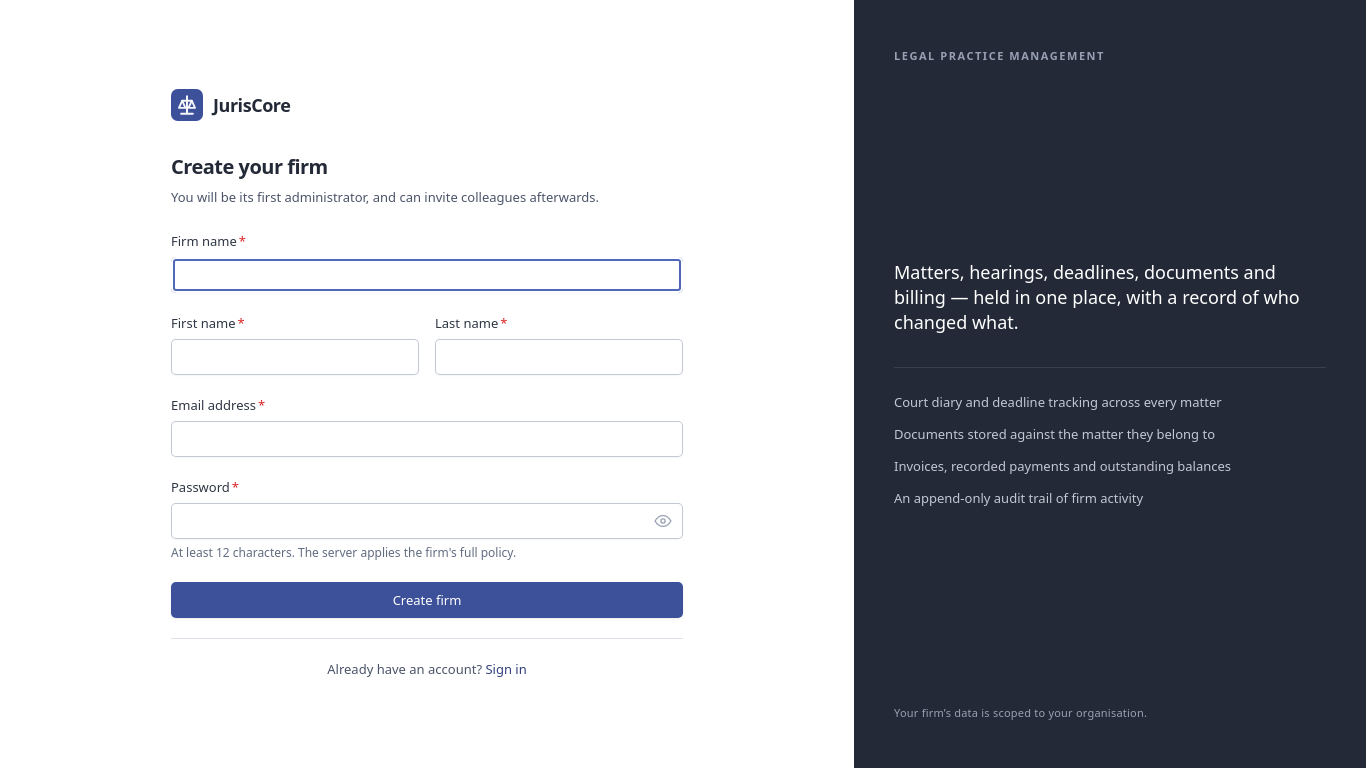
Test case: RegisterPage › reports an unrouted 404 as a missing record, which is the symptom to recognise
Type "xyz" into the field labelled "Firm name*" at (427, 275), box [171,257,683,293]
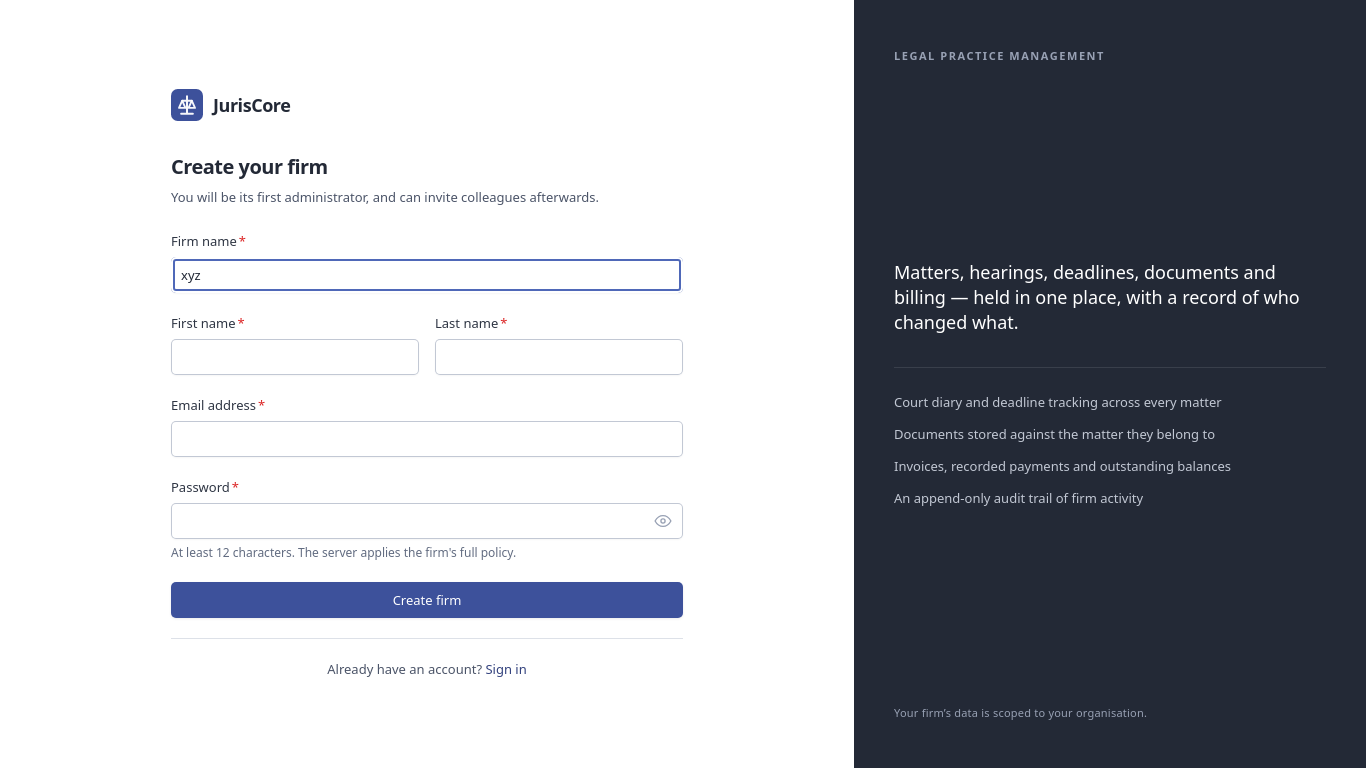
Type "Arsh" into the field labelled "First name*" at (295, 357), box [171,339,419,375]
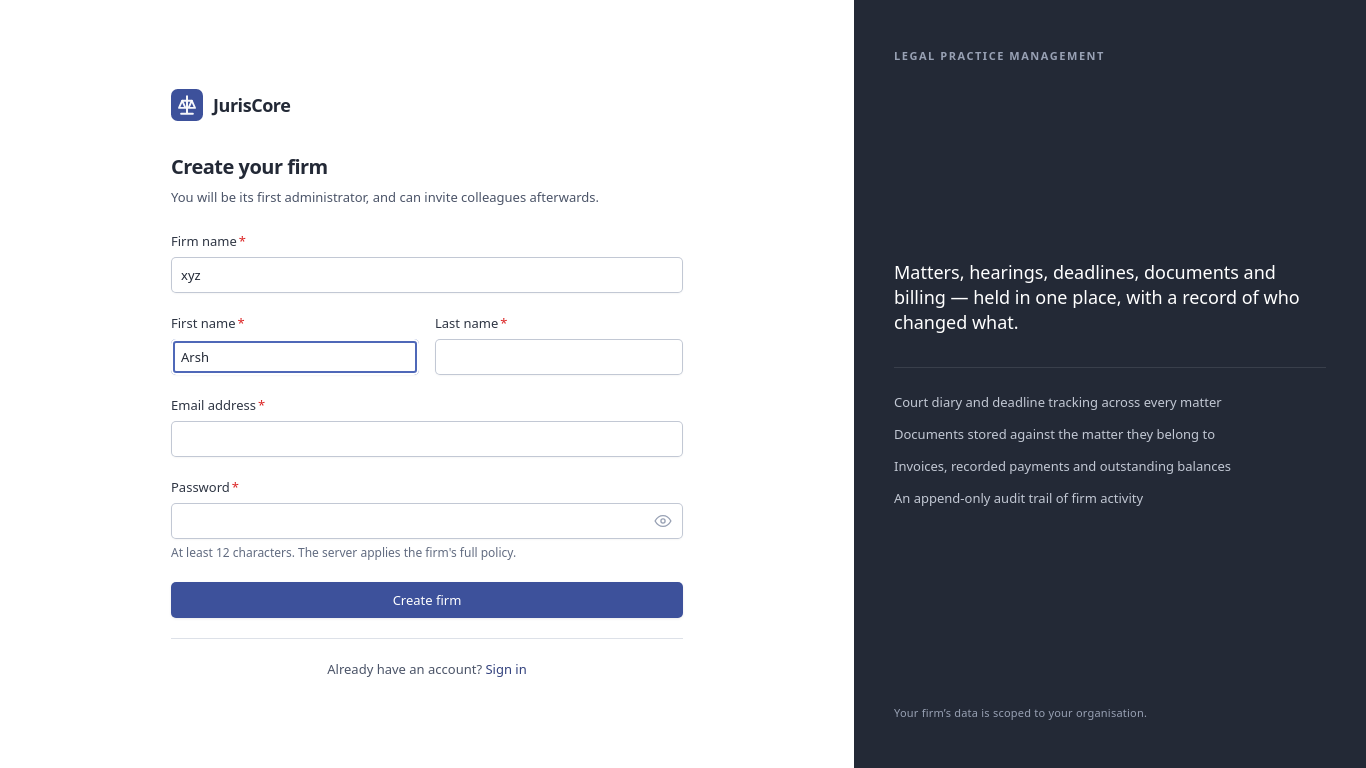
Type "Raj" into the field labelled "Last name*" at (559, 357), box [435,339,683,375]
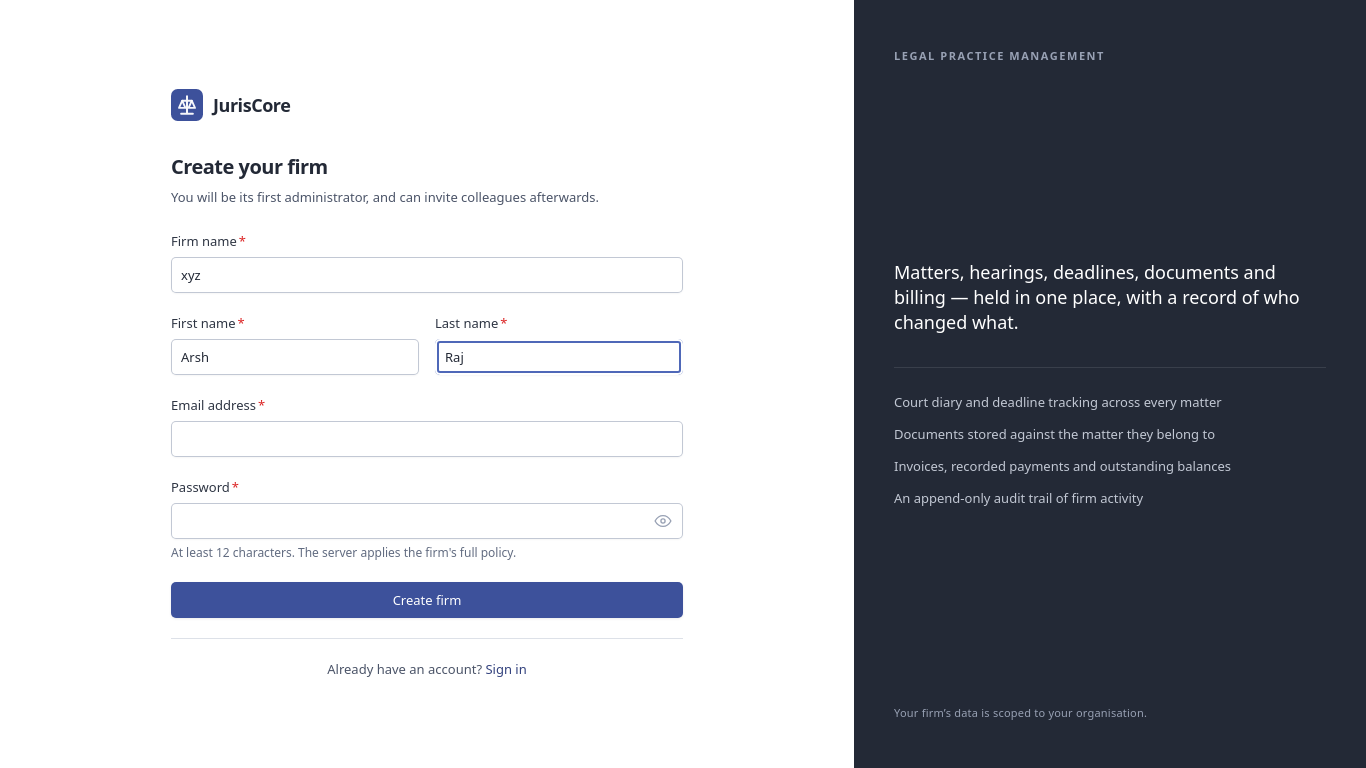
Type "arsh@example.test" into the field labelled "Email address*" at (427, 439), box [171,421,683,457]
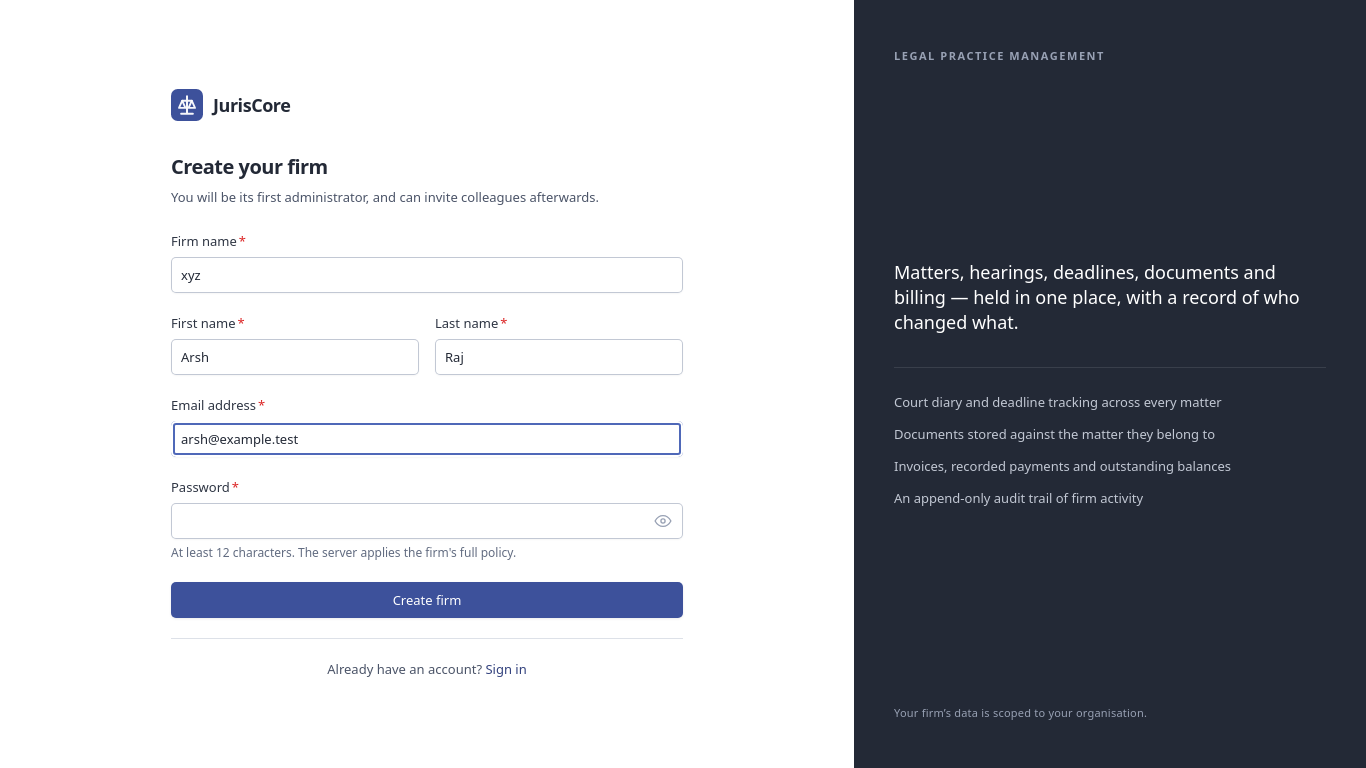
Type "Correct-Horse7!" into the password field labelled "Password*" at (427, 521), box [171,503,683,539]
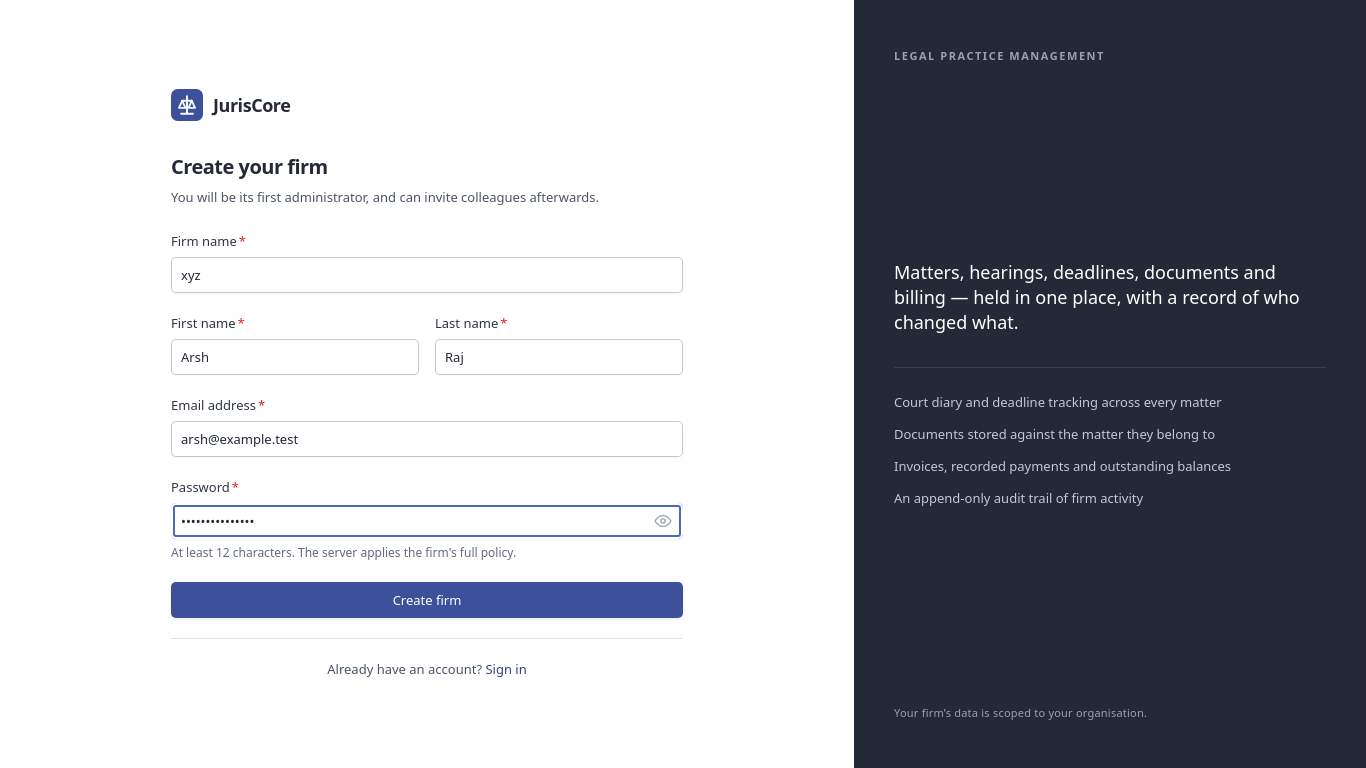
Click the button "Create firm" at (427, 600), box [171,582,683,618]
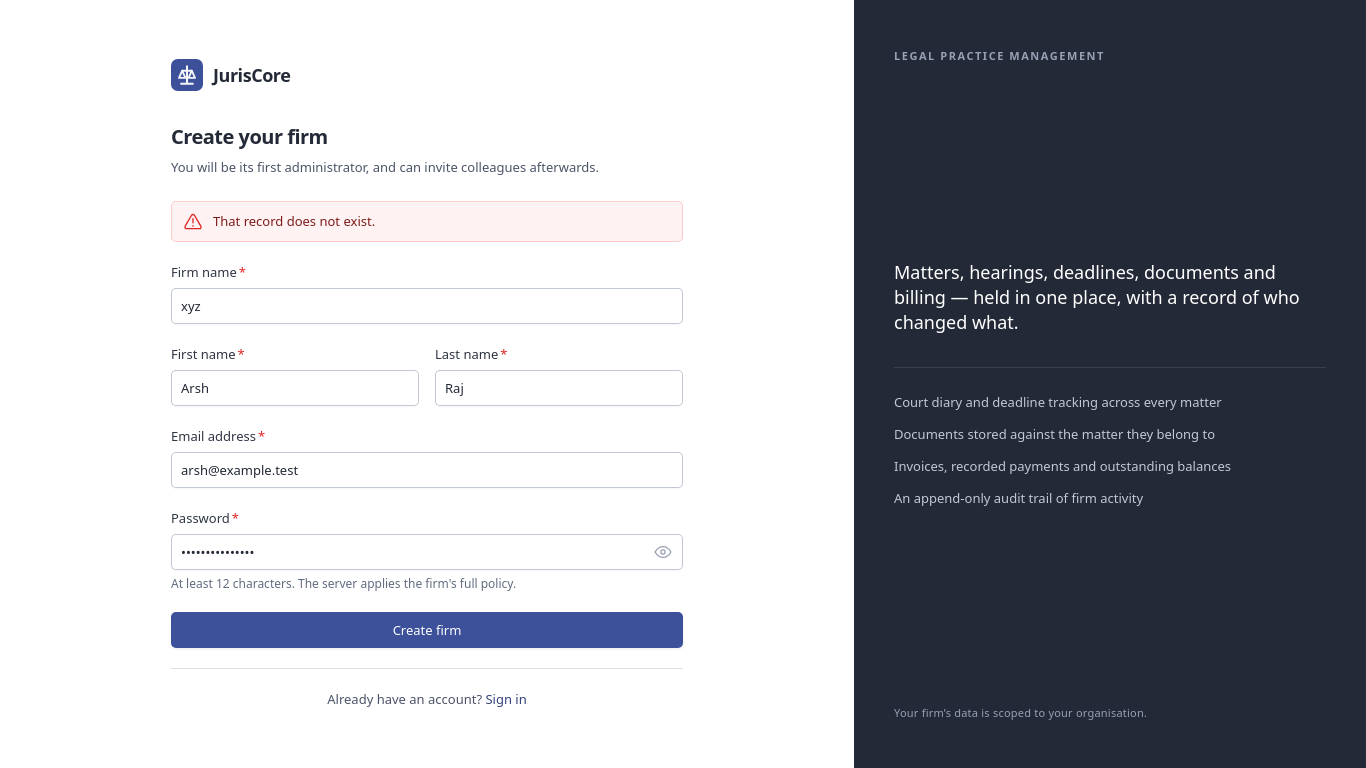
expect the message reads "That record does not exist.": met, box [213,212,375,230]
